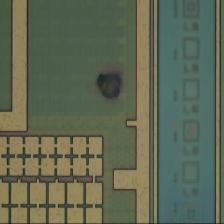PARTICLE: (94, 69, 128, 103)
